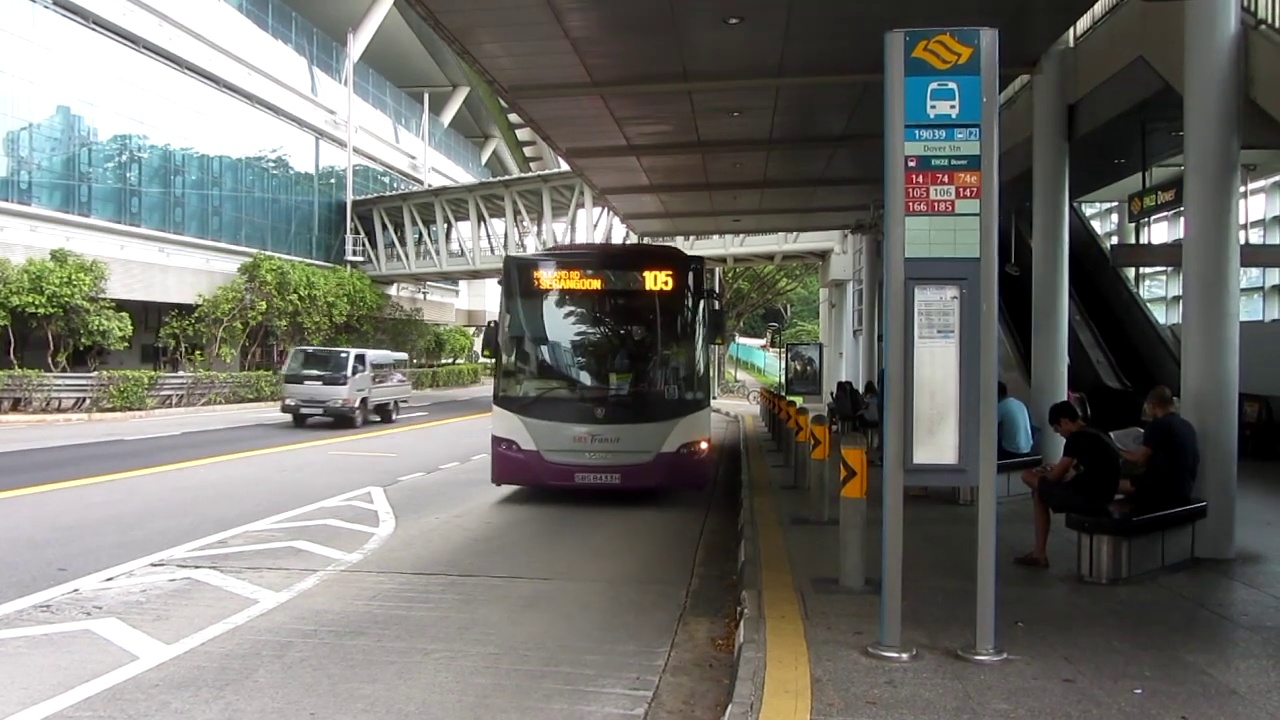bus panel: (529, 267, 674, 292)
